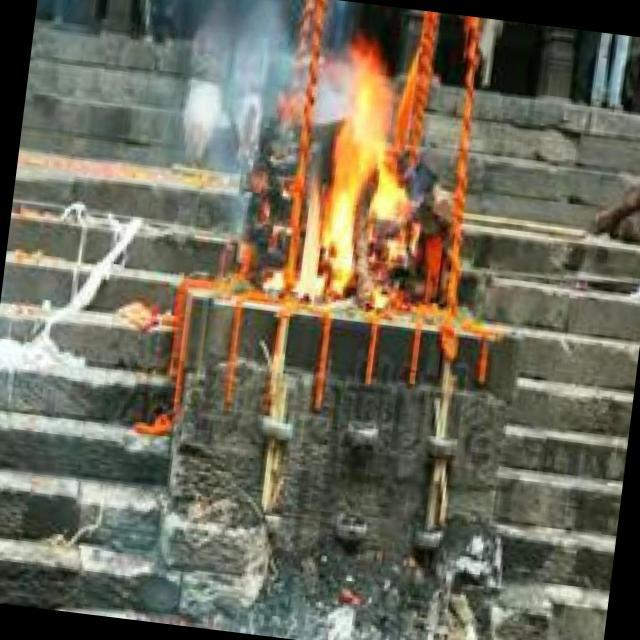Fire: (286, 49, 428, 319)
